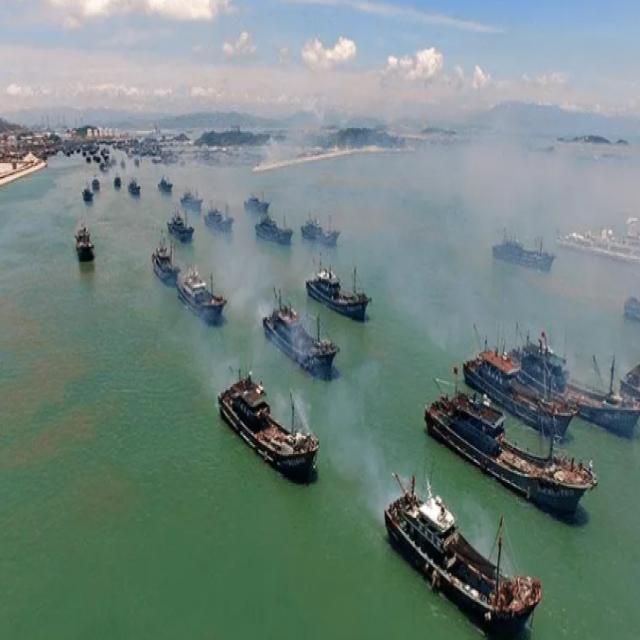fishing boat: (384, 474, 541, 634), (423, 382, 599, 521), (513, 329, 640, 433), (216, 364, 319, 476), (461, 334, 570, 434), (264, 290, 336, 374), (308, 263, 369, 316), (491, 227, 553, 269), (176, 266, 228, 315), (147, 242, 181, 279), (300, 213, 338, 243), (202, 197, 234, 230), (256, 214, 296, 240), (72, 225, 96, 261), (243, 192, 270, 220), (167, 212, 195, 239), (621, 292, 640, 321), (182, 186, 204, 210), (128, 175, 144, 198), (158, 177, 176, 192), (82, 185, 95, 201), (112, 176, 123, 190), (92, 176, 100, 191)
